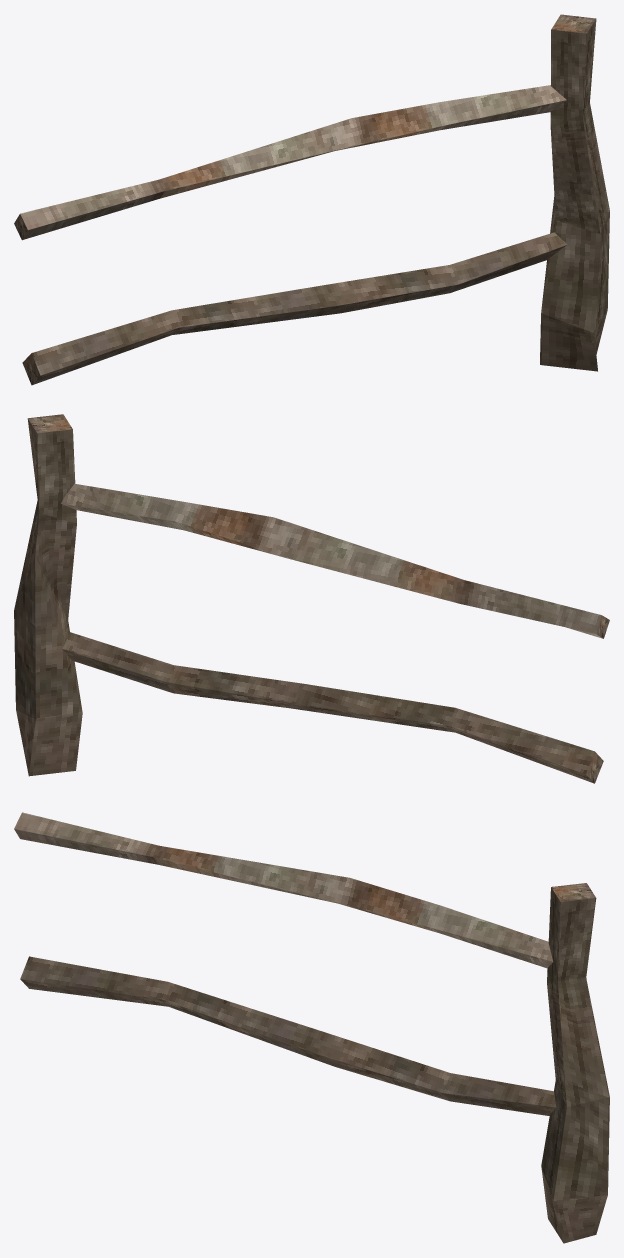
Rendered from wooden_fence_open_alt.glb.
The picture shows the model from 3 angles, top to bottom: view 1: azimuth 30°, elevation 25°; view 2: azimuth 150°, elevation 25°; view 3: azimuth 330°, elevation 25°; orthographic projection.
Parts seen in each view (by area): view 1: wooden_fence_open_alt; view 2: wooden_fence_open_alt; view 3: wooden_fence_open_alt.
Boxes of the visible parts, x1,y1,x2,y2 form: wooden_fence_open_alt: (14,14,609,385); wooden_fence_open_alt: (14,414,609,783); wooden_fence_open_alt: (14,812,609,1243).
Bounding box in the file's own units: 2.19 × 1.2 × 0.2664.
1 material, 1 textured.
